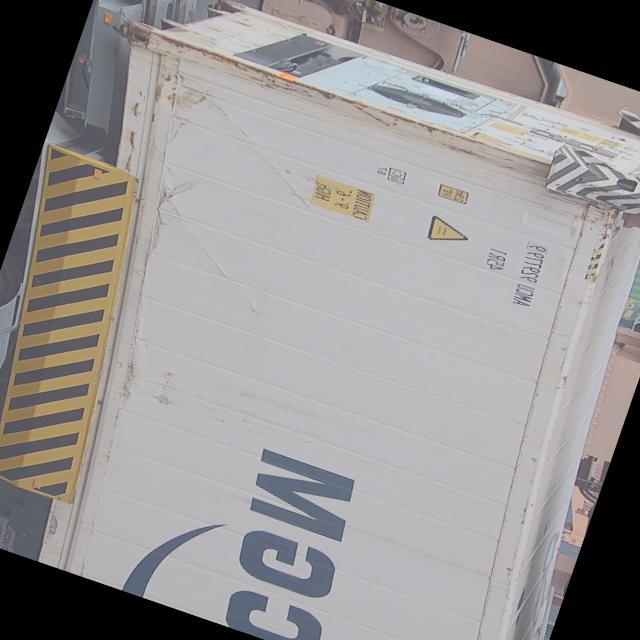rust: (132, 18, 453, 152)
